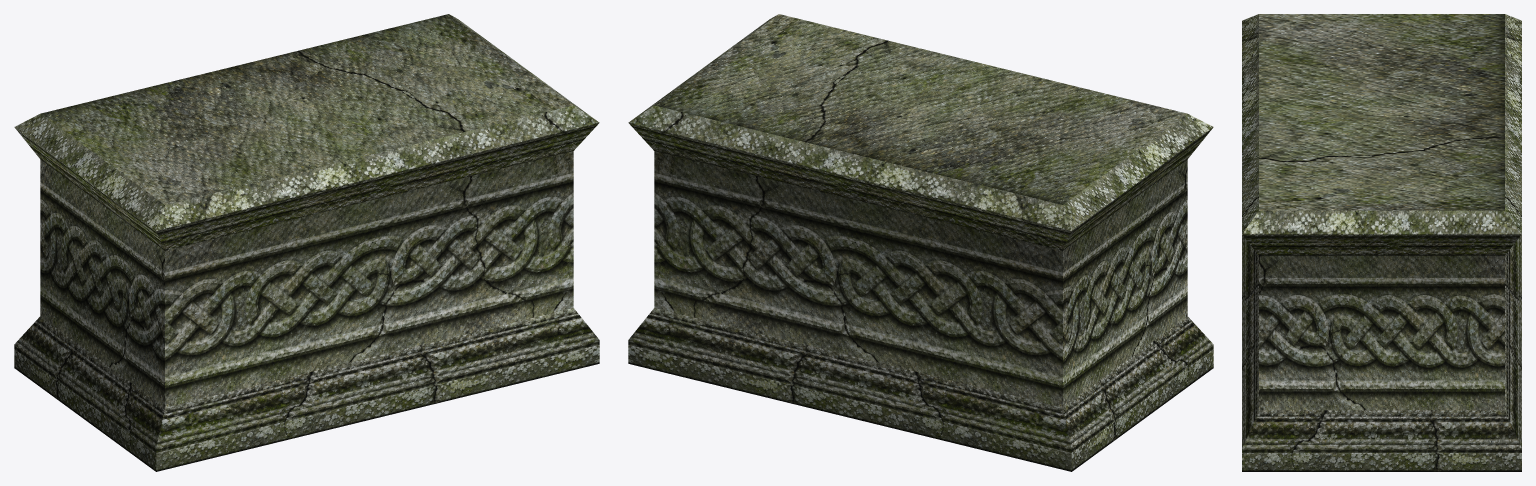
File: mm9_deco_portalwhole.glb
3 views of the same model, side by side, from view 1: azimuth 30°, elevation 25°; view 2: azimuth 150°, elevation 25°; view 3: azimuth 270°, elevation 25° (orthographic).
Visible parts, largest first — view 1: Portalwhole; view 2: Portalwhole; view 3: Portalwhole.
Boxes of the visible parts, x1,y1,x2,y2 form: Portalwhole: (14, 14, 599, 471); Portalwhole: (628, 14, 1213, 471); Portalwhole: (1242, 14, 1521, 471).
Bounding box in the file's own units: 2.04 × 1.13 × 1.13.
1 material, 1 textured.
